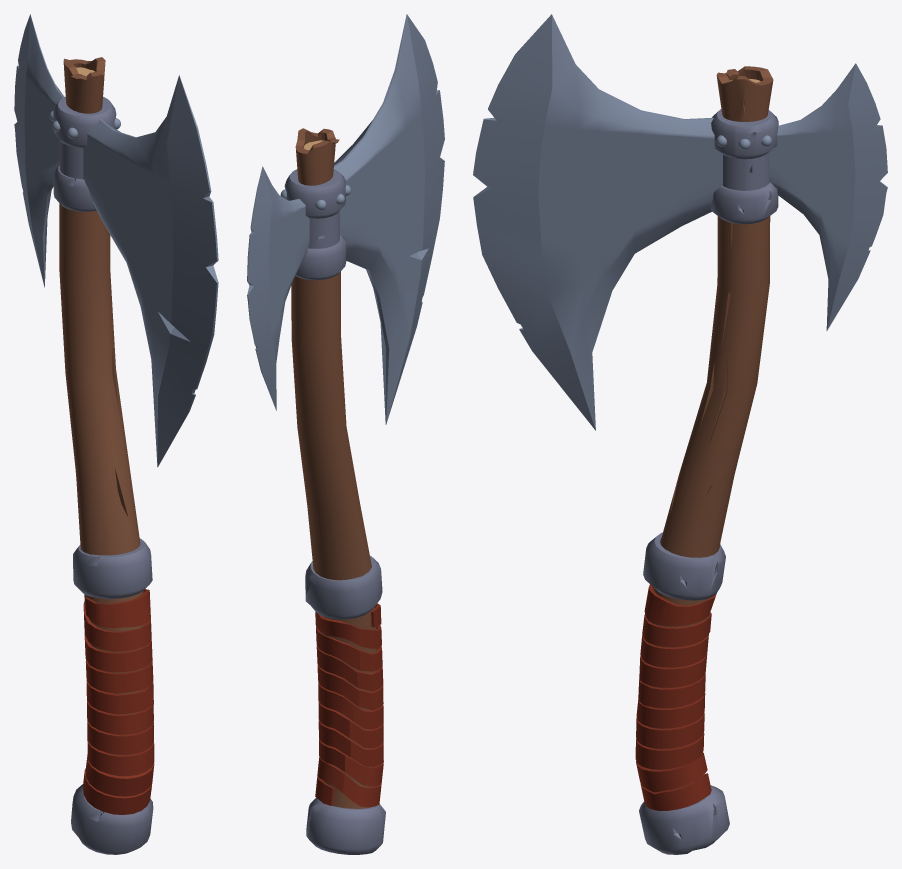
File: axeMesh_v2.fbx
3 views of the same model, side by side, from view 1: azimuth 30°, elevation 25°; view 2: azimuth 150°, elevation 25°; view 3: azimuth 270°, elevation 25° (orthographic). The views are drawn at different scales.
Visible parts, largest first — view 1: hache1:polySurface99; view 2: hache1:polySurface99; view 3: hache1:polySurface99.
Boxes of the visible parts, x1=… form: hache1:polySurface99: x1=14, y1=14, x2=218, y2=854; hache1:polySurface99: x1=247, y1=14, x2=444, y2=854; hache1:polySurface99: x1=473, y1=14, x2=887, y2=854.
Size of the model in its own units: 5 by 56.17 by 25.36.
